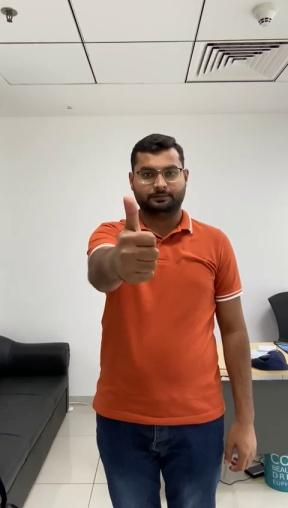thumbs-up: (112, 197, 160, 283)
